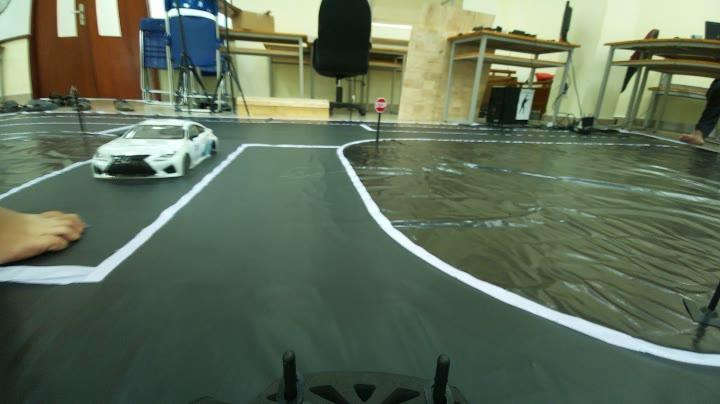car: (92, 112, 192, 187)
stop: (364, 90, 391, 114)
